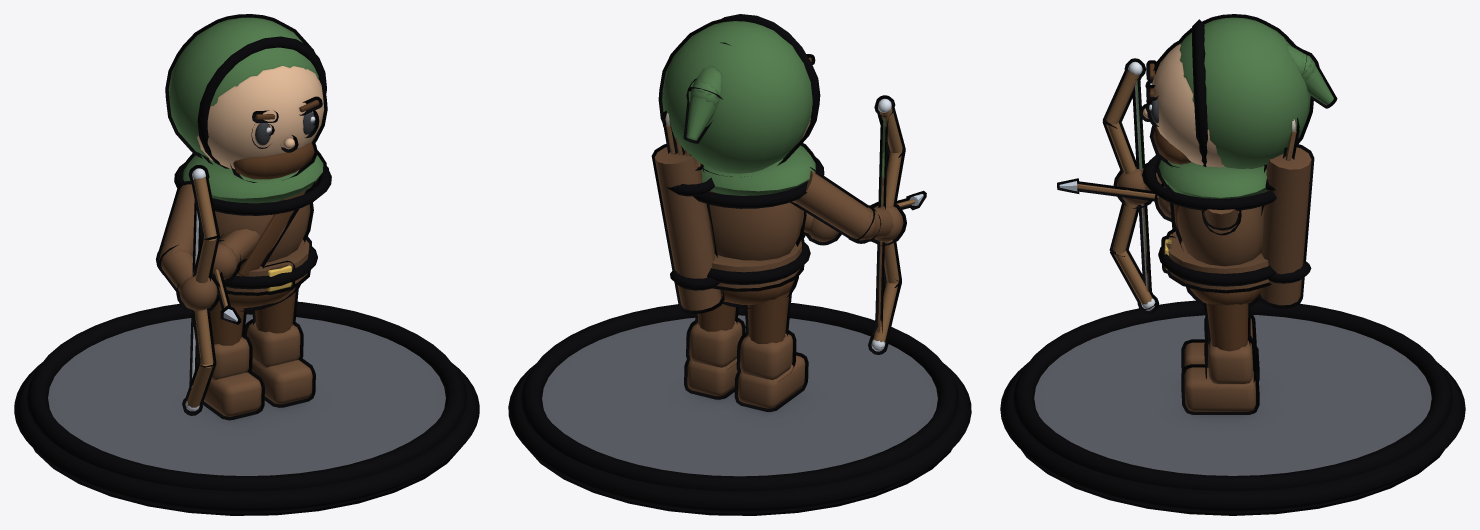
File: hunter_s2.fbx
3 renders of one model, left to right at view 1: azimuth 30°, elevation 25°; view 2: azimuth 150°, elevation 25°; view 3: azimuth 270°, elevation 25°, orthographic.
Parts seen in each view (by area): view 1: hunter_s2; view 2: hunter_s2; view 3: hunter_s2.
Part boxes in pixels (bbox=[...]): hunter_s2: bbox=[14, 14, 479, 515]; hunter_s2: bbox=[508, 14, 971, 515]; hunter_s2: bbox=[1000, 14, 1465, 515].
Bounding box in the file's own units: 1.58 × 1.5 × 1.58.
2 materials, 1 textured.
